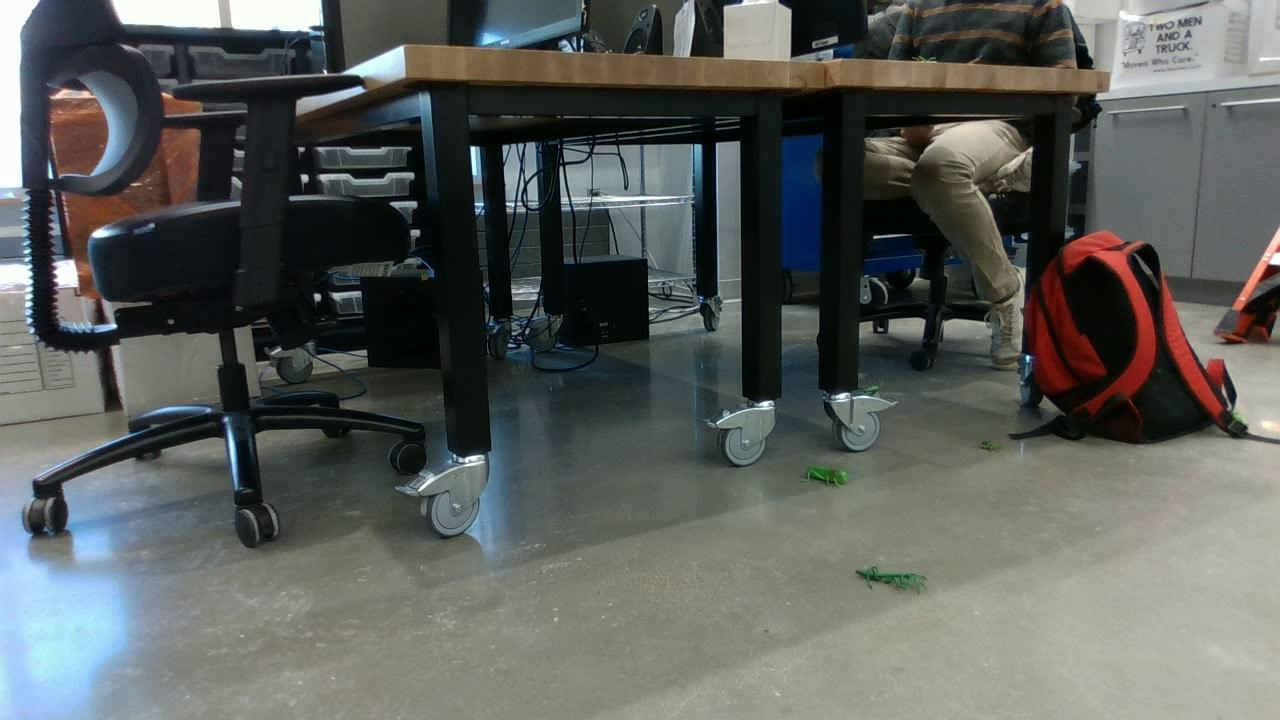grasshopper: (800, 467, 851, 490)
